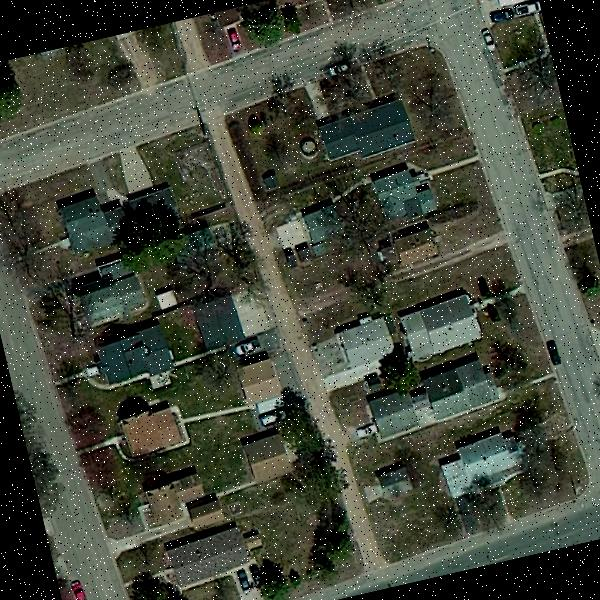Buildings: (58, 174, 186, 248), (105, 393, 194, 469), (320, 98, 418, 163), (88, 322, 174, 396), (163, 525, 268, 585), (64, 263, 151, 335), (403, 291, 482, 367), (437, 432, 525, 494), (135, 472, 208, 544), (432, 363, 498, 414), (235, 430, 294, 485), (374, 171, 439, 217), (333, 319, 398, 362), (368, 388, 416, 435), (239, 356, 284, 403)
